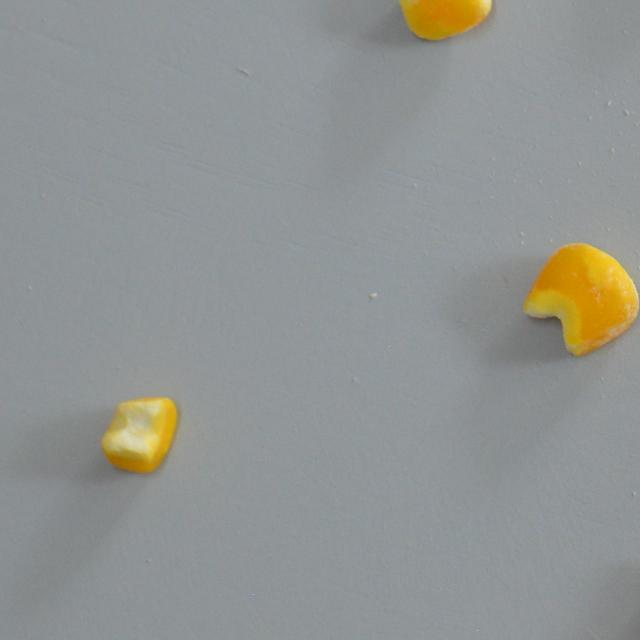no_canjicado: (394, 0, 491, 40)
no_desgerminado: (100, 396, 178, 472)
pelicula: (523, 242, 640, 356)
